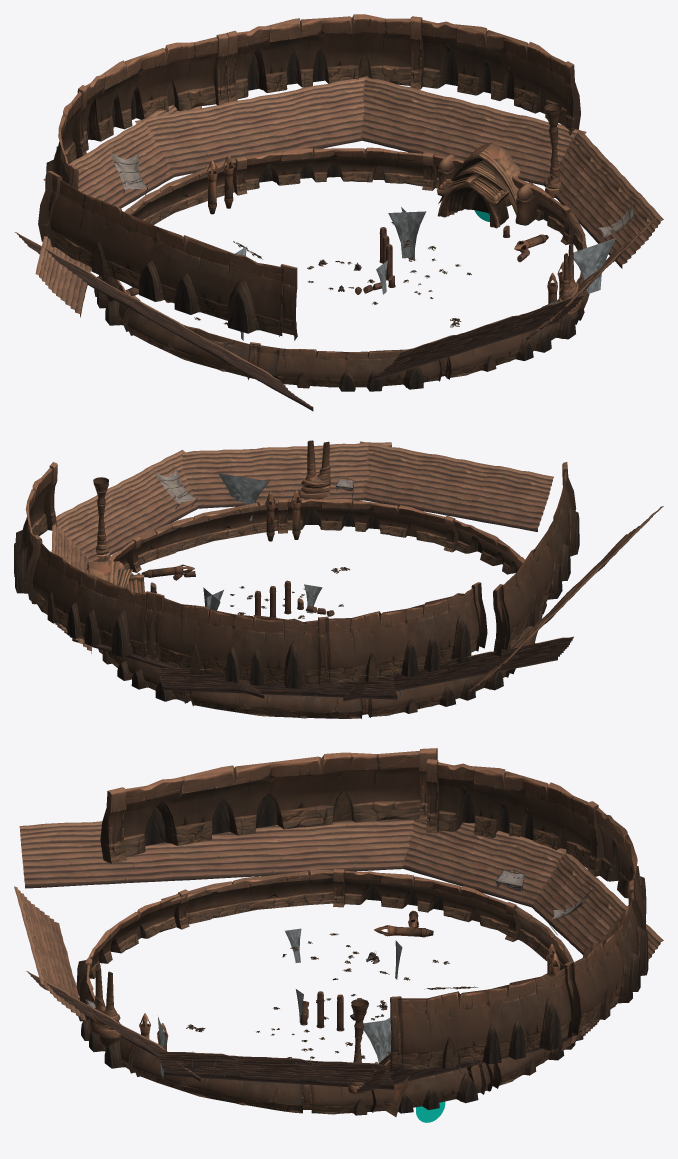
File: env_geo_arena_01_pre.glb
3 renders of one model, top to bottom at view 1: azimuth 30°, elevation 25°; view 2: azimuth 150°, elevation 25°; view 3: azimuth 270°, elevation 25°, orthographic. The views are drawn at different scales.
Visible parts, largest first — view 1: geo_wall_01_mesh (6) (×2), geo_wall_01_mesh (4) (×2), geo_arena_stairs_01_mesh (4), geo_wall_01_mesh (×2), geo_arena_stairs_01_mesh (2), geo_wall_01_mesh (1), geo_arena_stairs_01_mesh (1), geo_wall_01_mesh (3), geo_wall_01_mesh (7), geo_arena_stairs_01_mesh (5), geo_maingate_dtl_mesh, geo_arena_stairs_01_mesh (3) (+12 smaller); view 2: geo_wall_01_mesh (4) (×2), geo_wall_01_mesh (6) (×2), geo_wall_01_mesh (1), geo_arena_stairs_01_mesh (3), geo_arena_stairs_01_mesh, geo_arena_stairs_01_mesh (1), geo_wall_02_mesh, geo_arena_stairs_01_mesh (6), geo_wall_01_mesh (×2), geo_arena_stairs_01_mesh (5), geo_wall_02_mesh (1), geo_wall_01_mesh (5) (+11 smaller); view 3: geo_wall_01_mesh (6) (×2), geo_wall_01_mesh (×2), geo_arena_stairs_01_mesh (7), geo_wall_01_mesh (4) (×2), geo_arena_stairs_01_mesh (6), geo_wall_01_mesh (5), geo_arena_stairs_01_mesh (1), geo_wall_02_mesh (2), geo_arena_stairs_01_mesh (5), geo_wall_02_mesh, geo_wall_01_mesh (7), geo_arena_stairs_01_mesh (3) (+8 smaller).
Boxes of the visible parts, x1,y1,x2,y2 form: geo_wall_01_mesh (6) (×2): (38, 171, 584, 380); geo_wall_01_mesh (4) (×2): (45, 14, 421, 189); geo_arena_stairs_01_mesh (4): (135, 76, 368, 176); geo_wall_01_mesh (×2): (412, 16, 580, 244); geo_arena_stairs_01_mesh (2): (358, 77, 586, 185); geo_wall_01_mesh (1): (77, 33, 228, 150); geo_arena_stairs_01_mesh (1): (542, 130, 663, 268); geo_wall_01_mesh (3): (233, 147, 433, 195); geo_wall_01_mesh (7): (247, 342, 450, 391); geo_arena_stairs_01_mesh (5): (43, 105, 201, 208); geo_maingate_dtl_mesh: (436, 142, 520, 228); geo_arena_stairs_01_mesh (3): (375, 294, 585, 379); geo_wall_01_mesh (4) (×2): (27, 535, 487, 684); geo_wall_01_mesh (6) (×2): (277, 462, 579, 656); geo_wall_01_mesh (1): (150, 593, 327, 688); geo_arena_stairs_01_mesh (3): (359, 441, 553, 531); geo_arena_stairs_01_mesh: (182, 442, 391, 508); geo_arena_stairs_01_mesh (1): (56, 450, 198, 561); geo_wall_02_mesh: (138, 500, 277, 565); geo_arena_stairs_01_mesh (6): (343, 636, 573, 701); geo_wall_01_mesh (×2): (14, 462, 141, 603); geo_arena_stairs_01_mesh (5): (158, 668, 397, 699); geo_wall_02_mesh (1): (190, 691, 362, 718); geo_wall_01_mesh (5): (360, 646, 515, 718); geo_wall_01_mesh (6) (×2): (77, 748, 437, 1076); geo_wall_01_mesh (×2): (302, 962, 580, 1115); geo_arena_stairs_01_mesh (7): (19, 819, 414, 888); geo_wall_01_mesh (4) (×2): (426, 759, 648, 1037); geo_arena_stairs_01_mesh (6): (402, 819, 564, 907); geo_wall_01_mesh (5): (333, 869, 520, 941); geo_arena_stairs_01_mesh (1): (158, 1051, 394, 1089); geo_wall_02_mesh (2): (159, 869, 333, 932); geo_arena_stairs_01_mesh (5): (532, 848, 663, 961); geo_wall_02_mesh: (132, 1047, 303, 1113); geo_wall_01_mesh (7): (76, 889, 189, 995); geo_arena_stairs_01_mesh (3): (14, 886, 85, 1024).
Size of the model in its own units: 215 by 64.92 by 212.
Materials: 17 (17 with a texture image).
